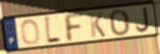F: (62, 12, 86, 43)
J: (135, 7, 151, 33)
K: (88, 11, 107, 39)
L: (43, 15, 63, 45)
O: (109, 8, 131, 37), (19, 19, 41, 47)
